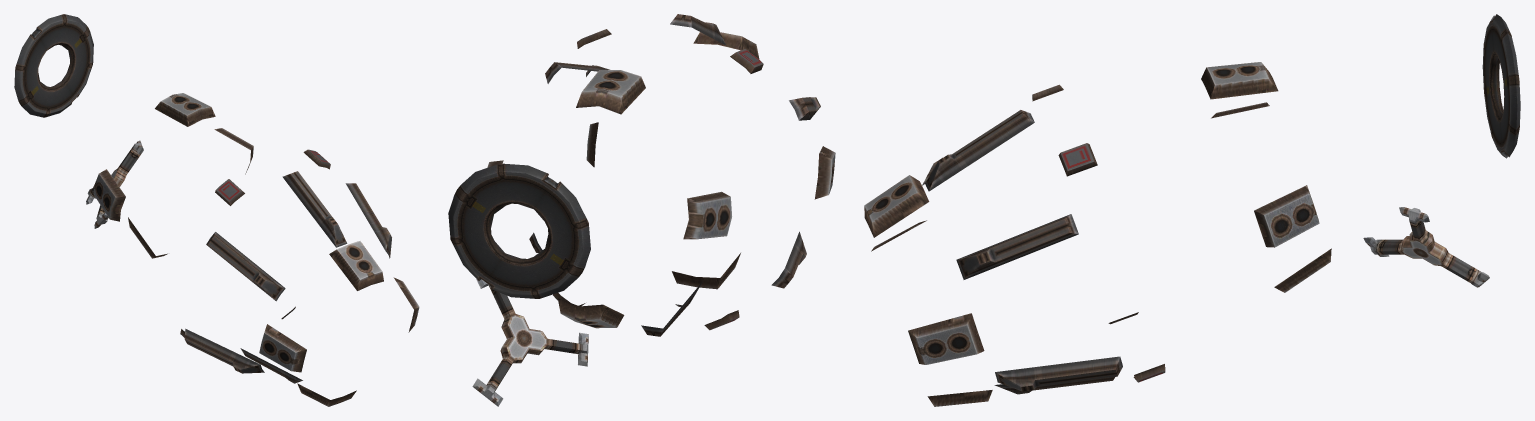
The model's file is prop_static_yao_container_02_03.glb.
The picture shows the model from 3 angles, left to right: view 1: azimuth 30°, elevation 25°; view 2: azimuth 150°, elevation 25°; view 3: azimuth 270°, elevation 25°; orthographic projection. The views are drawn at different scales.
Visible parts, largest first — view 1: yao_container_02_03_LOD0; view 2: yao_container_02_03_LOD0; view 3: yao_container_02_03_LOD0.
Boxes of the visible parts, x1,y1,x2,y2 form: yao_container_02_03_LOD0: [14, 14, 419, 406]; yao_container_02_03_LOD0: [448, 14, 835, 406]; yao_container_02_03_LOD0: [864, 14, 1520, 406].
Size of what is drawn, in the model's own units: 1.35 by 1.62 by 2.9.
1 material, 1 textured.
